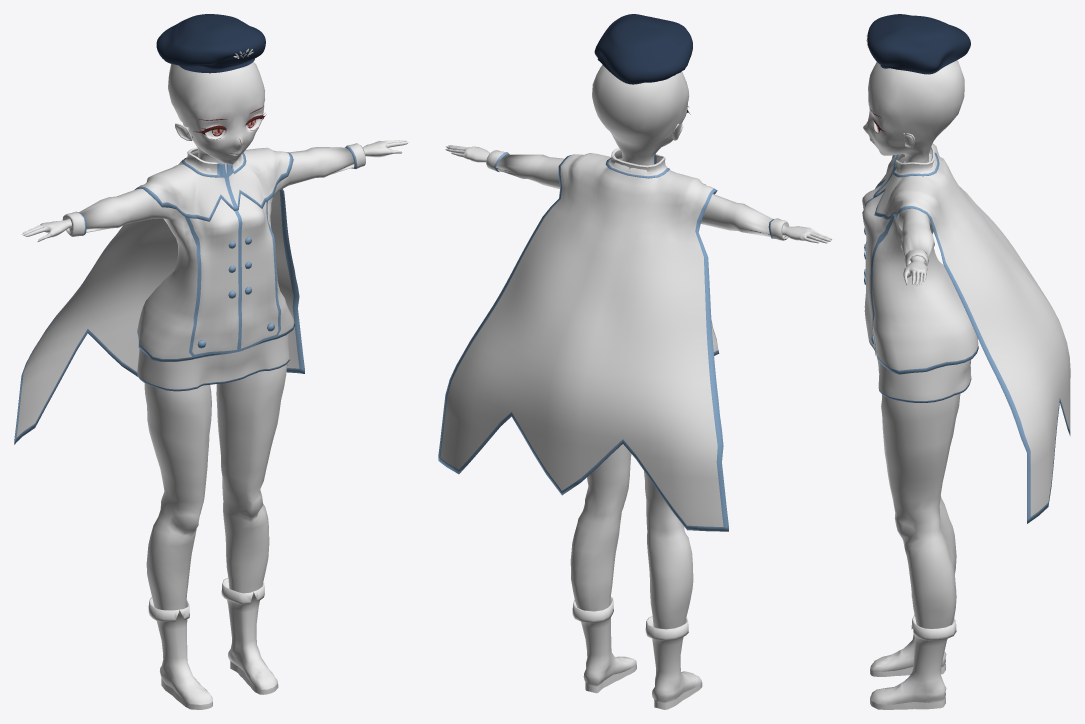
Rendered from Kuro Figure Mixamo why no color.fbx.
3 views of the same model, side by side, from view 1: azimuth 30°, elevation 25°; view 2: azimuth 150°, elevation 25°; view 3: azimuth 270°, elevation 25° (orthographic).
Visible parts, largest first — view 1: Body, Body.003, Body.004; view 2: Body.003, Body, Body.004; view 3: Body, Body.003, Body.004.
Boxes of the visible parts, box(x1,y1,x2,y2) form: Body: box(21, 14, 409, 709); Body.003: box(14, 147, 304, 444); Body.004: box(62, 143, 365, 361); Body.003: box(438, 148, 728, 531); Body: box(445, 14, 833, 709); Body.004: box(486, 150, 789, 355); Body: box(862, 14, 971, 709); Body.003: box(873, 143, 1070, 523); Body.004: box(872, 153, 978, 374).
Bounding box in the file's own units: 77.46 × 127 × 36.04.
